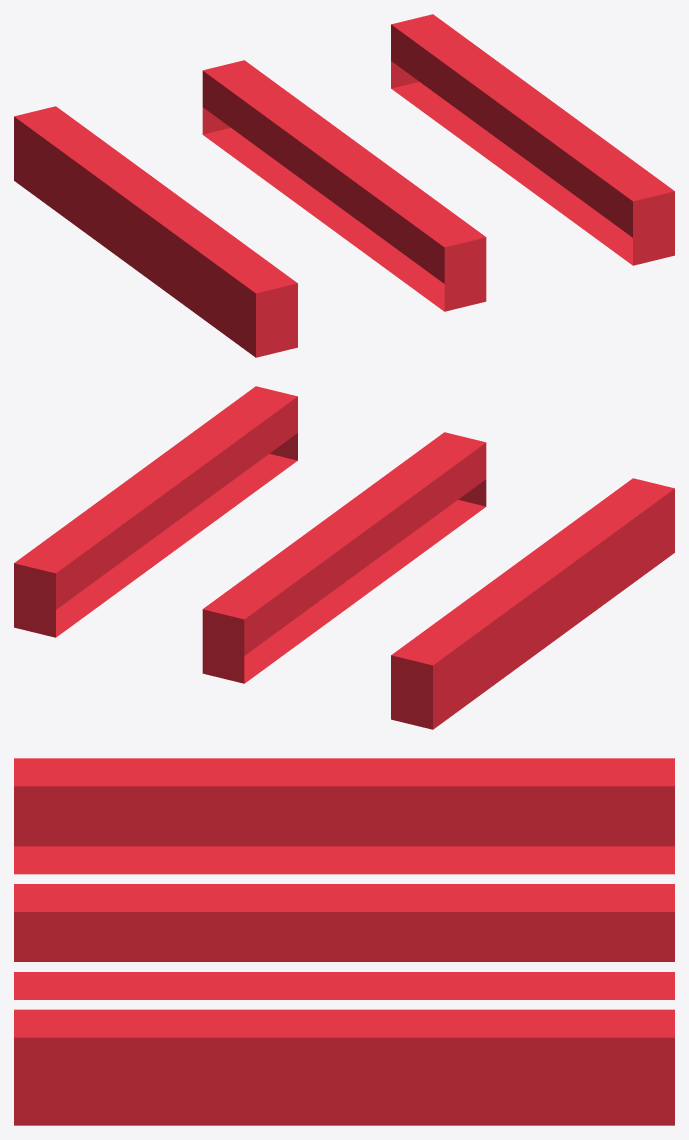
File: split paredes.FBX
The picture shows the model from 3 angles, top to bottom: view 1: azimuth 30°, elevation 25°; view 2: azimuth 150°, elevation 25°; view 3: azimuth 270°, elevation 25°; orthographic projection. The views are drawn at different scales.
Visible parts, largest first — view 1: split; view 2: split; view 3: split.
Part boxes in pixels (x1,y1,x2,y2): split: (14, 14, 674, 357); split: (14, 386, 674, 729); split: (14, 758, 674, 1125).
Size of the model in its own units: 99.99 by 14.67 by 99.99.
